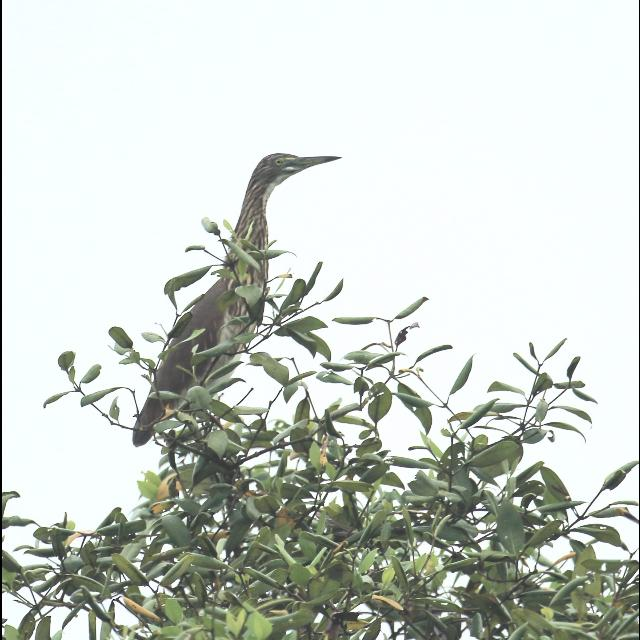heron: (140, 150, 342, 450)
